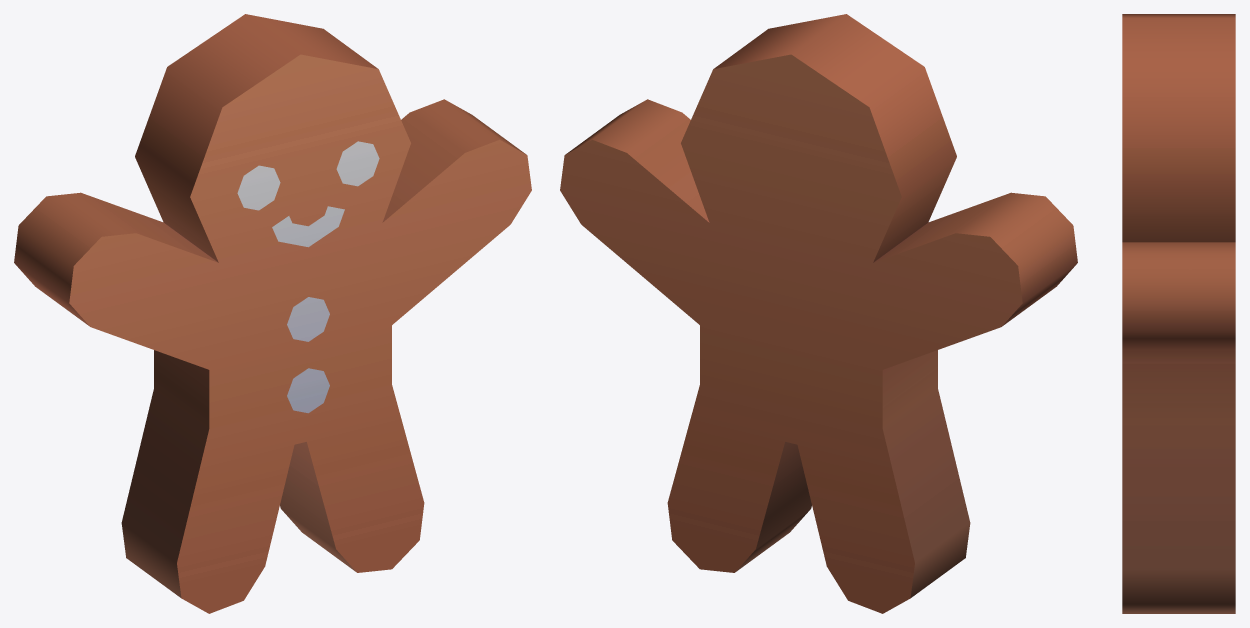
Rendered from gingerbread_man.glb.
The picture shows the model from 3 angles, left to right: view 1: azimuth 30°, elevation 25°; view 2: azimuth 150°, elevation 25°; view 3: azimuth 270°, elevation 25°; orthographic projection. The views are drawn at different scales.
Visible parts, largest first — view 1: gingerbread-man; view 2: gingerbread-man; view 3: gingerbread-man.
Part boxes in pixels (box(x1,y1,x2,y2)): gingerbread-man: box(14, 14, 531, 613); gingerbread-man: box(560, 14, 1077, 613); gingerbread-man: box(1122, 14, 1235, 613).
Bounding box in the file's own units: 0.3393 × 0.3764 × 0.0802.
1 material, 1 textured.
